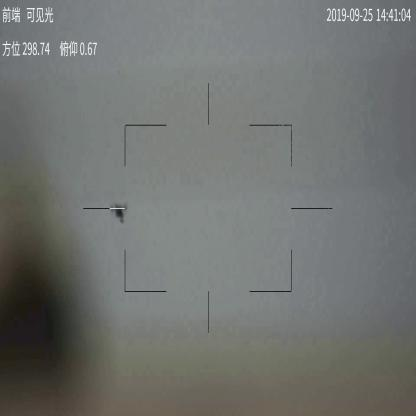uav: (108, 199, 129, 224)
